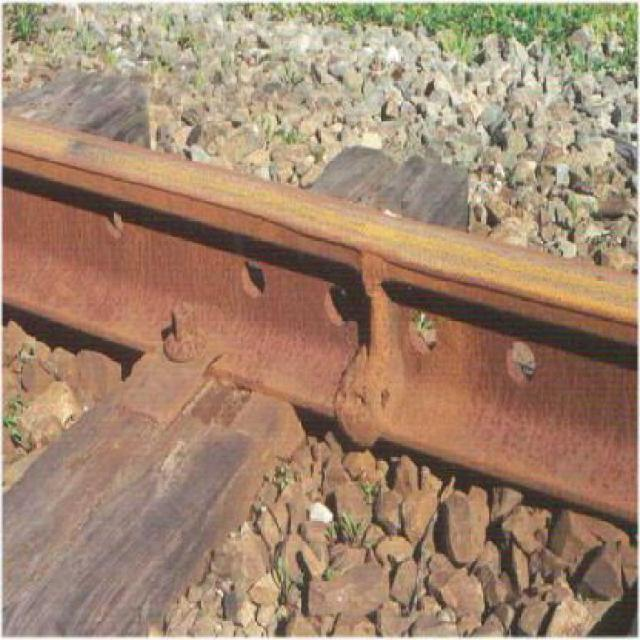defective: (15, 78, 640, 537)
